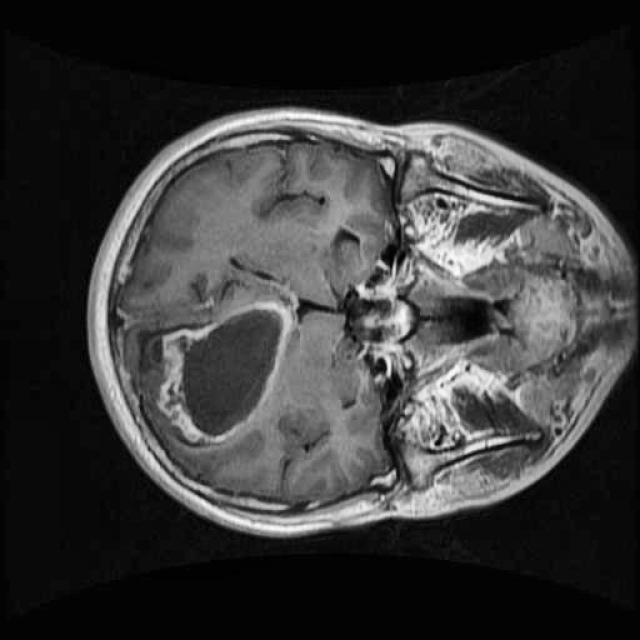Tumor: (146, 284, 305, 454)
